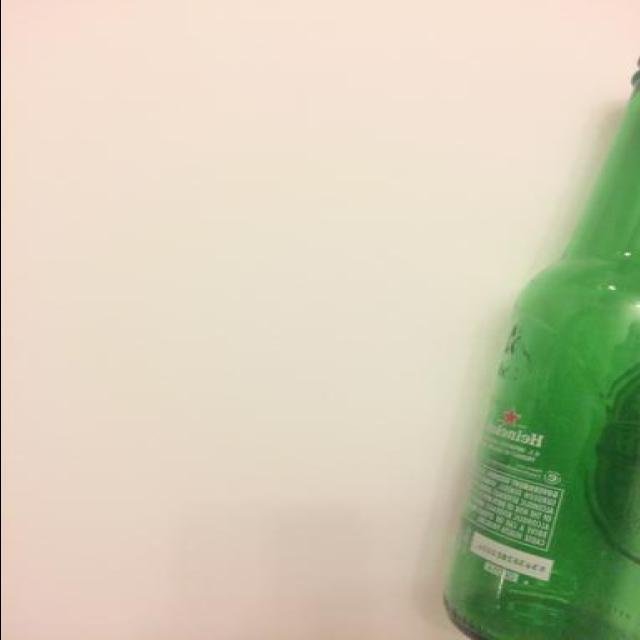glass: (433, 60, 640, 640)
